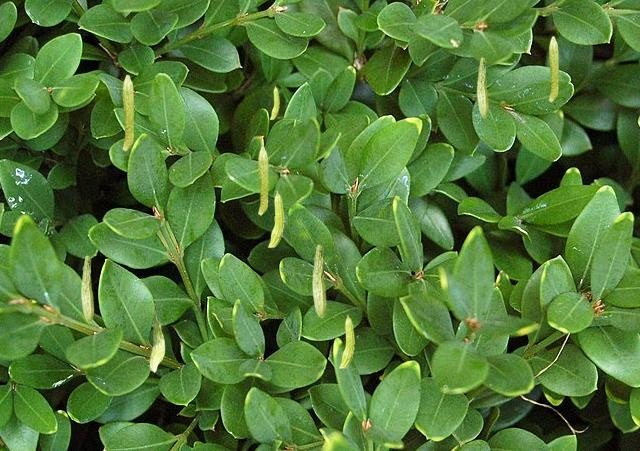ampalaya: (312, 244, 326, 318), (149, 310, 165, 373), (267, 190, 284, 248), (80, 255, 94, 322), (338, 314, 355, 369), (122, 74, 134, 151), (476, 57, 489, 118), (257, 146, 268, 215), (548, 36, 559, 102), (269, 85, 280, 120)
